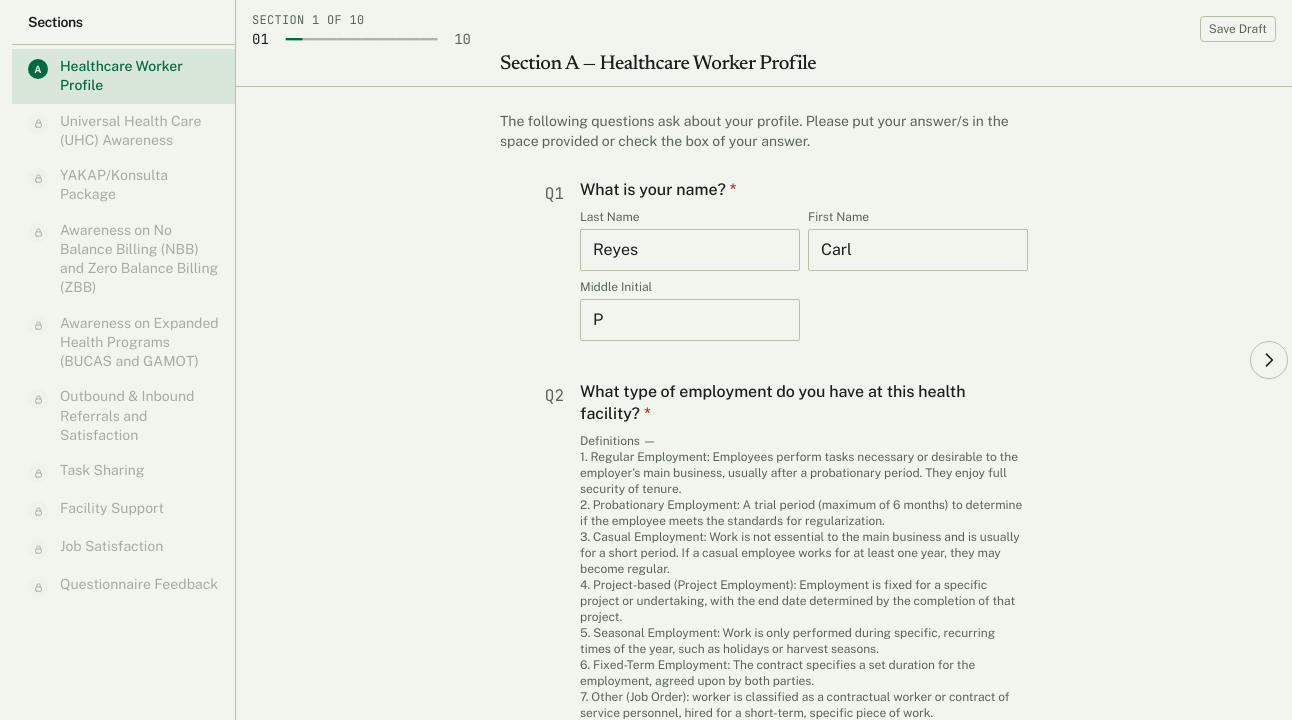
Test: <MultiSectionForm> › restores merged values when navigating back
This screenshot has width=1292, height=720.
Click the button named "next" at (1269,360), box [1250,341,1288,379]
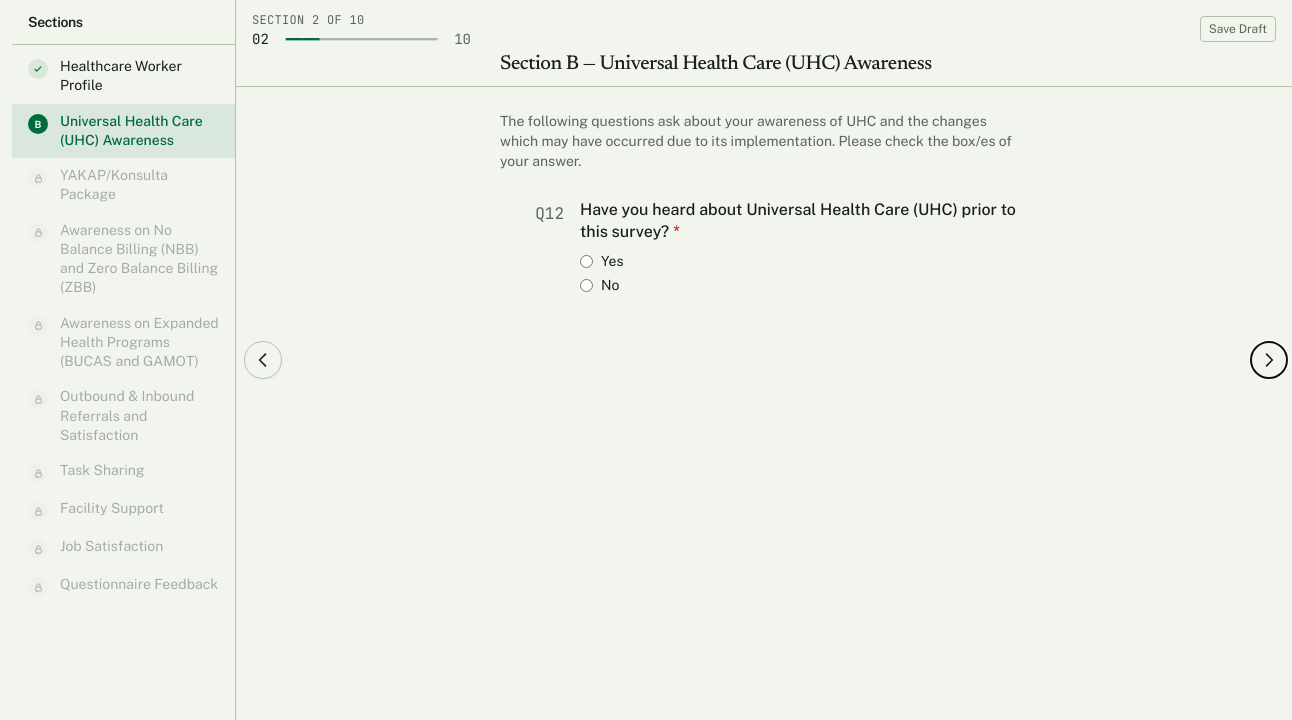
Result: the heading "Section B — Universal Health Care (UHC) Awareness" is shown at [500,54,932,74]
Click the button named "previous" at (263,360), box [244,341,282,379]
(page scrolled)
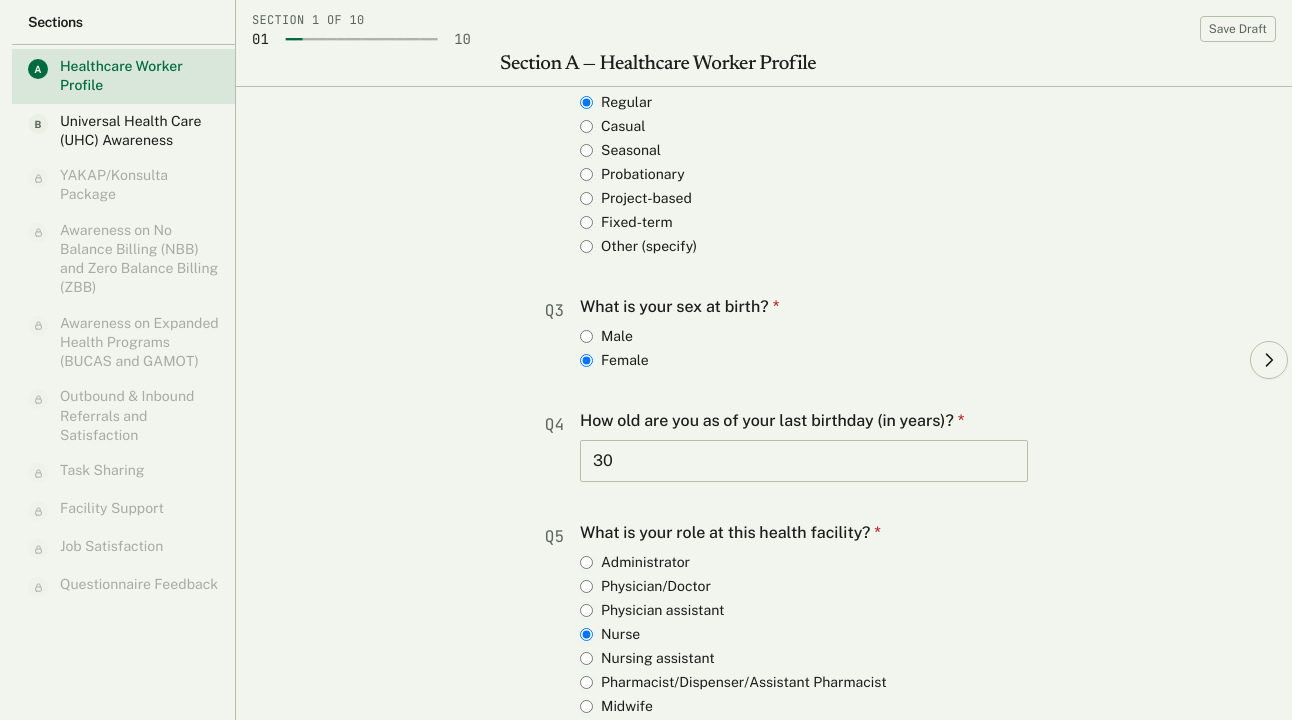
Result: the heading "Section A — Healthcare Worker Profile" is shown at [500,54,816,74]
Result: the radio button labelled "Female" is checked at [580,354,593,366]
